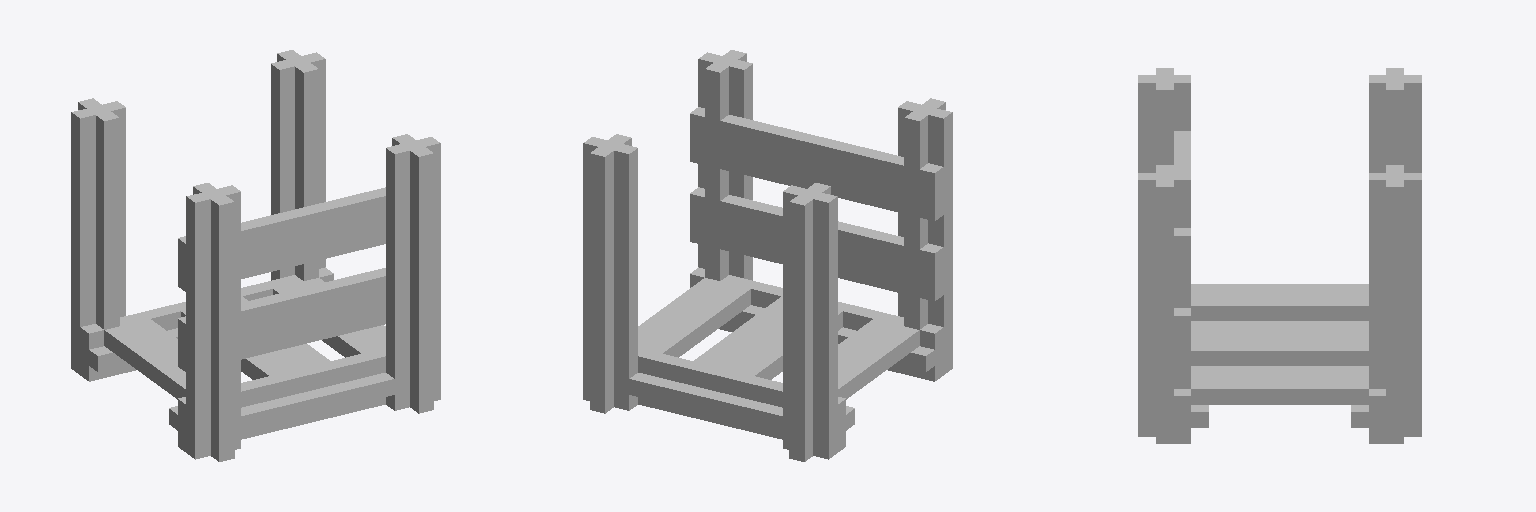
The model's file is pole_scaffolding_ladder_floor.obj.
The picture shows the model from 3 angles: view 1: azimuth 30°, elevation 25°; view 2: azimuth 150°, elevation 25°; view 3: azimuth 270°, elevation 25°; orthographic projection.
Parts seen in each view (by area): view 1: node_0_0_0.006; view 2: node_0_0_0.006; view 3: node_0_0_0.006.
Part boxes in pixels (bbox=[...]): node_0_0_0.006: bbox=[71, 50, 440, 461]; node_0_0_0.006: bbox=[583, 50, 952, 461]; node_0_0_0.006: bbox=[1138, 68, 1421, 443].
Size of the model in its own units: 1 by 1 by 1.